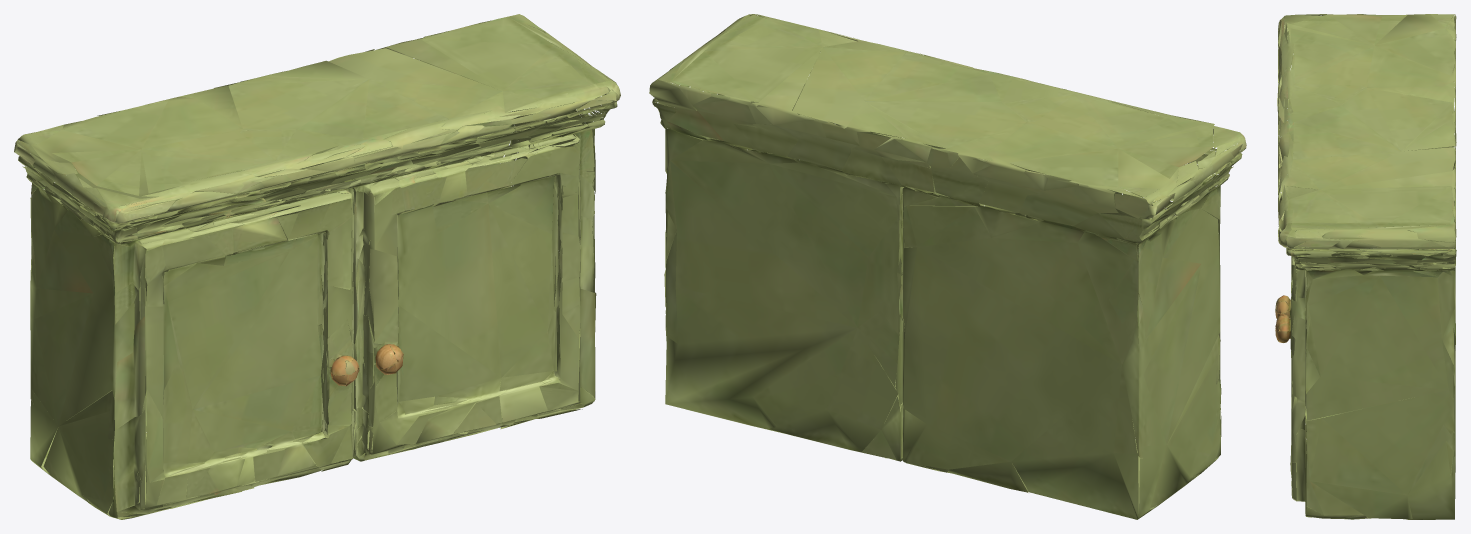
Rendered from upper_cabinet.glb.
3 renders of one model, left to right at view 1: azimuth 30°, elevation 25°; view 2: azimuth 150°, elevation 25°; view 3: azimuth 270°, elevation 25°, orthographic. The views are drawn at different scales.
Parts seen in each view (by area): view 1: upper_cabinet; view 2: upper_cabinet; view 3: upper_cabinet.
Part boxes in pixels (box(x1,y1,x2,y2)): upper_cabinet: box(14, 14, 620, 519); upper_cabinet: box(649, 14, 1246, 519); upper_cabinet: box(1275, 14, 1456, 519).
Size of the model in its own units: 0.6358 by 0.39 by 0.2173.
1 material, 1 textured.
